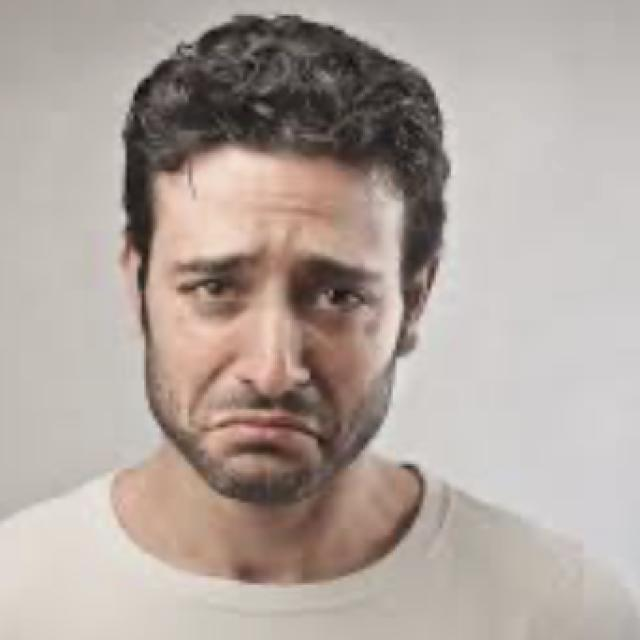sad: (95, 17, 433, 506)
